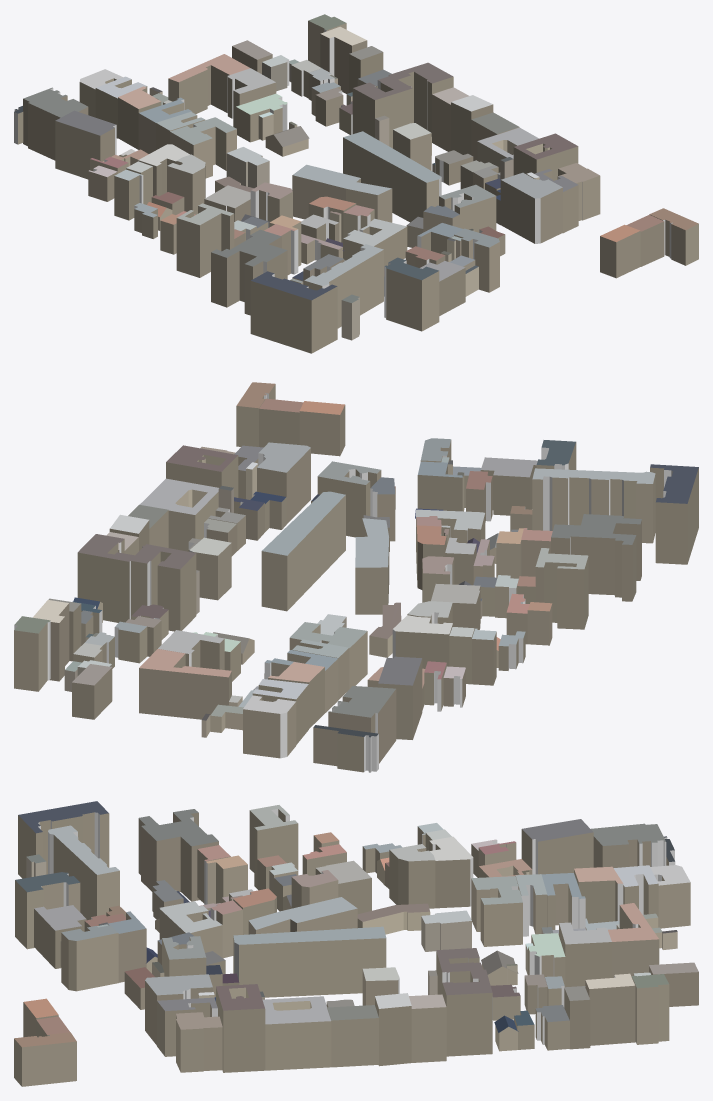
3 renders of one model, top to bottom at view 1: azimuth 30°, elevation 25°; view 2: azimuth 150°, elevation 25°; view 3: azimuth 270°, elevation 25°, orthographic. The views are drawn at different scales.
Visible parts, largest first — view 1: tuile; view 2: tuile; view 3: tuile.
Boxes of the visible parts, x1=… form: tuile: x1=14, y1=14, x2=698, y2=353; tuile: x1=14, y1=382, x2=698, y2=772; tuile: x1=14, y1=801, x2=698, y2=1086.
Bounding box in the file's own units: 208 × 28.41 × 268.
